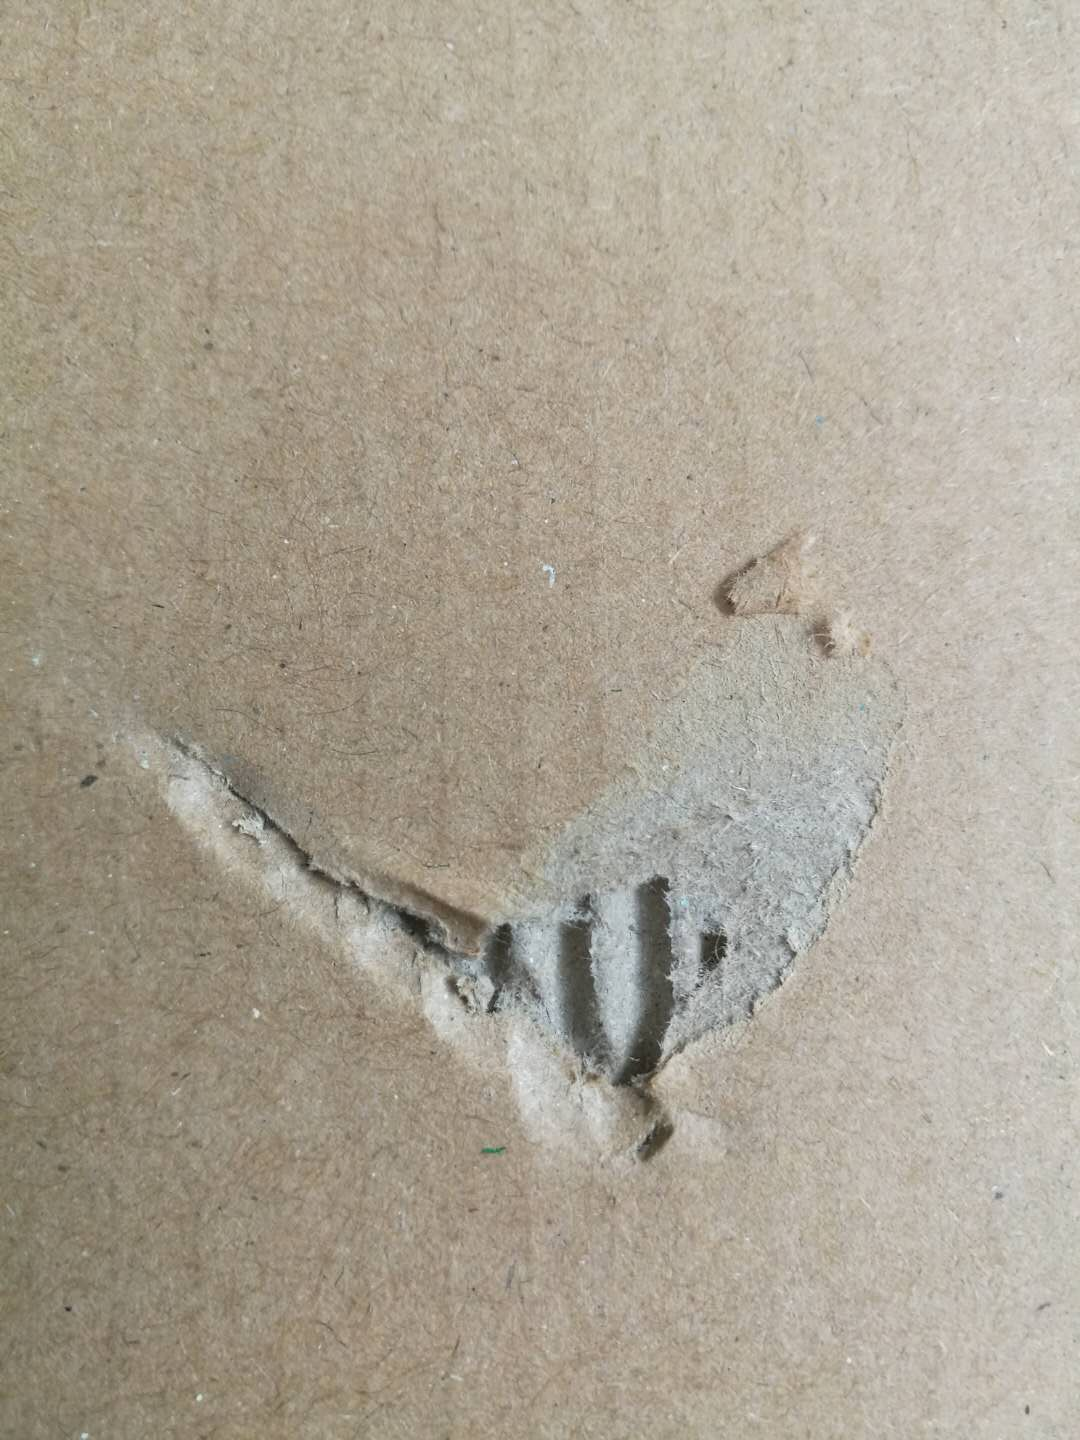defect: (25, 510, 935, 1236)
